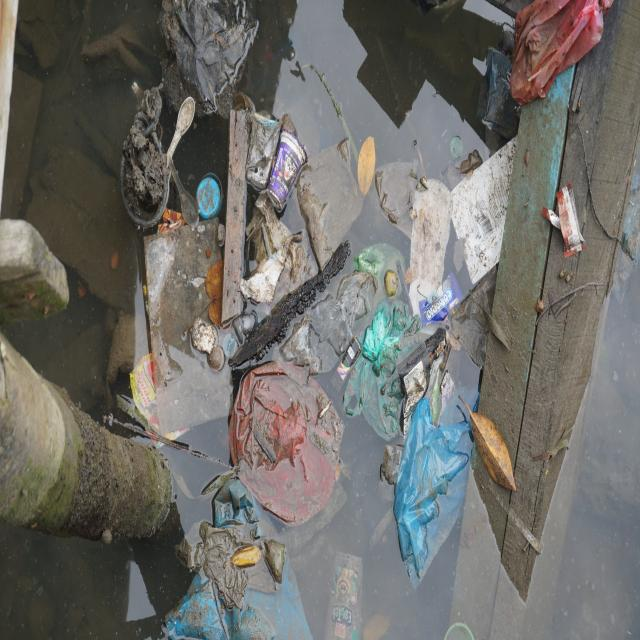Bungkus Makanan: (416, 275, 466, 331)
Bungkus Minuman: (244, 105, 283, 197), (269, 132, 309, 216)
Kantong Plastik: (228, 360, 345, 523), (165, 518, 317, 640), (392, 398, 475, 580), (162, 1, 259, 108), (349, 310, 419, 444)
